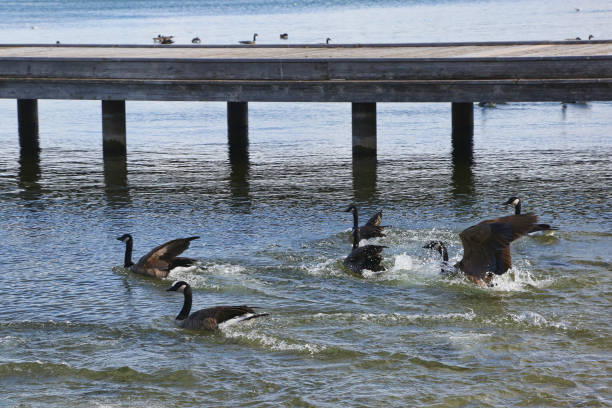goose: (421, 211, 542, 300), (165, 280, 267, 330), (113, 230, 202, 279), (344, 204, 389, 281), (500, 195, 555, 236), (235, 31, 260, 46)
